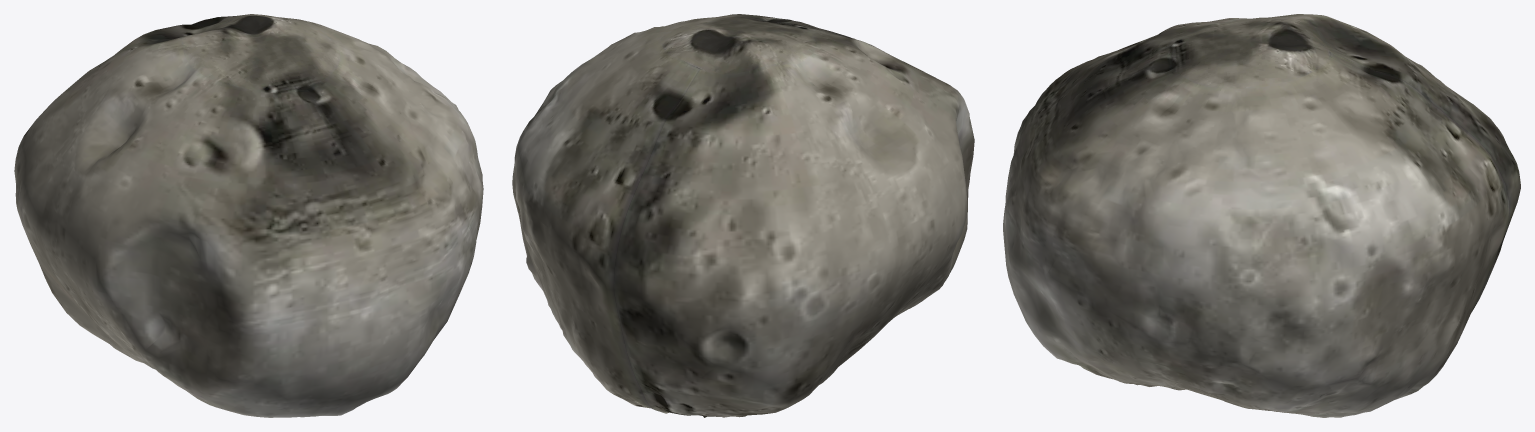
The model's file is phobos.glb.
3 views of the same model, side by side, from view 1: azimuth 30°, elevation 25°; view 2: azimuth 150°, elevation 25°; view 3: azimuth 270°, elevation 25° (orthographic). The views are drawn at different scales.
Parts seen in each view (by area): view 1: phobos; view 2: phobos; view 3: phobos.
Boxes of the visible parts, x1,y1,x2,y2 form: phobos: (14, 14, 483, 417); phobos: (512, 14, 974, 417); phobos: (1003, 14, 1520, 417).
Size of the model in its own units: 24.37 by 20.52 by 27.04.
1 material, 1 textured.
